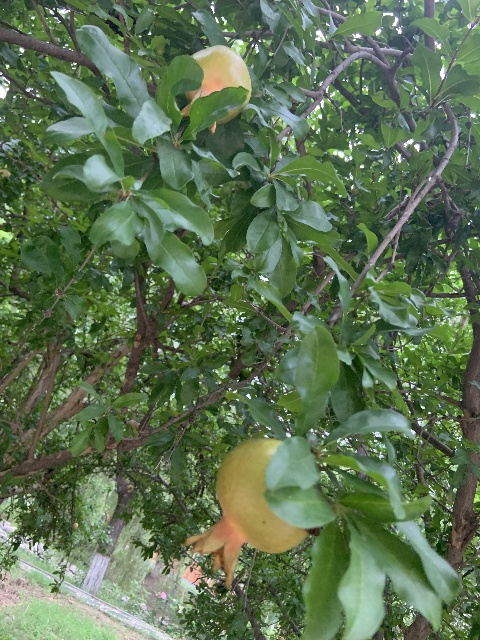mid-growth: (184, 436, 317, 587), (180, 44, 251, 136)
